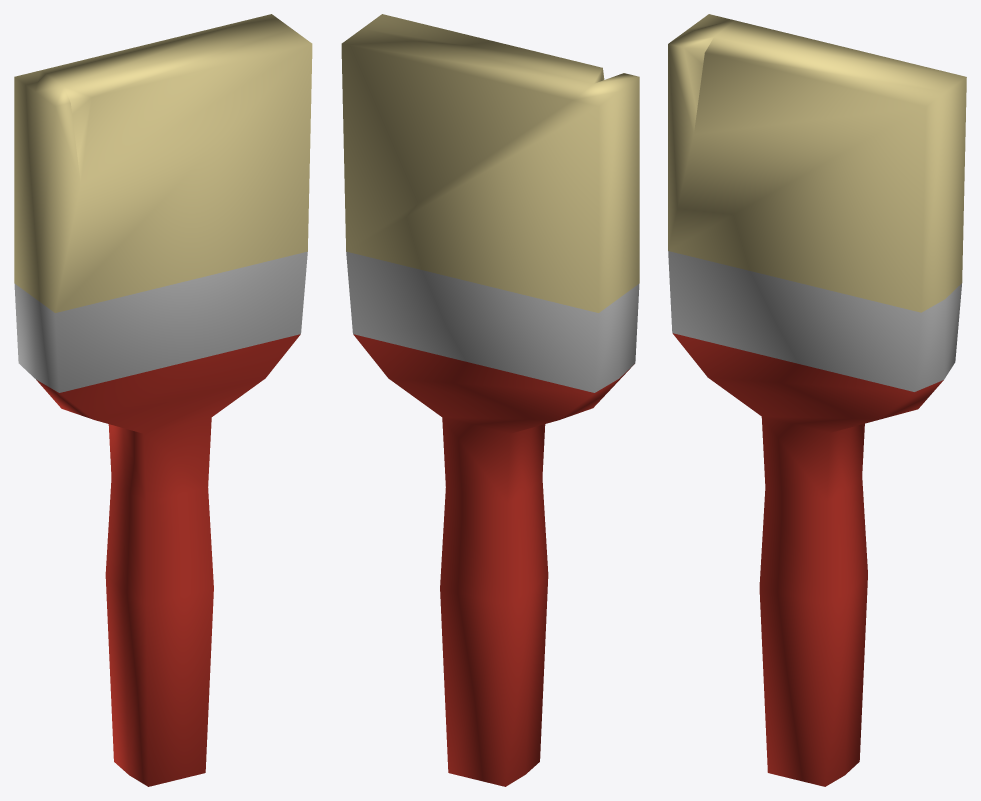
File: PaintBrush.fbx
The picture shows the model from 3 angles, left to right: view 1: azimuth 30°, elevation 25°; view 2: azimuth 150°, elevation 25°; view 3: azimuth 330°, elevation 25°; orthographic projection.
Visible parts, largest first — view 1: Cube; view 2: Cube; view 3: Cube.
Boxes of the visible parts, left/top/right/bottom form: Cube: left=14, top=14, right=312, bottom=786; Cube: left=341, top=14, right=639, bottom=786; Cube: left=668, top=14, right=966, bottom=786.
Bounding box in the file's own units: 761 × 1996 × 209.
